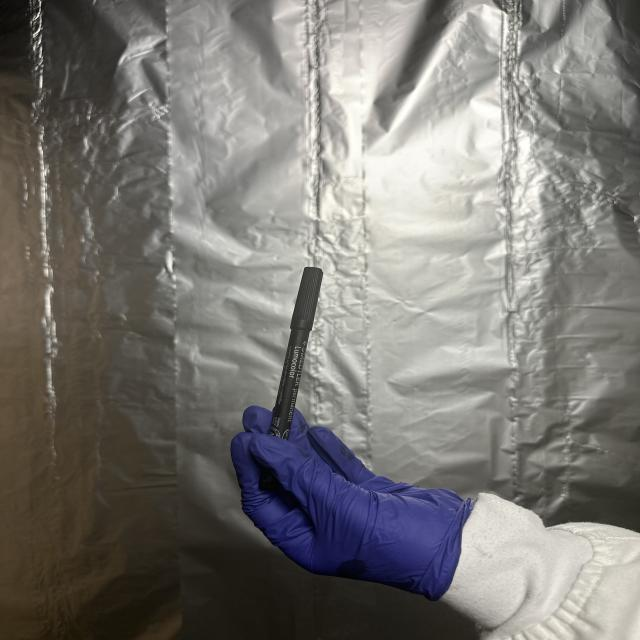gloves_contaminated: (231, 407, 474, 600)
